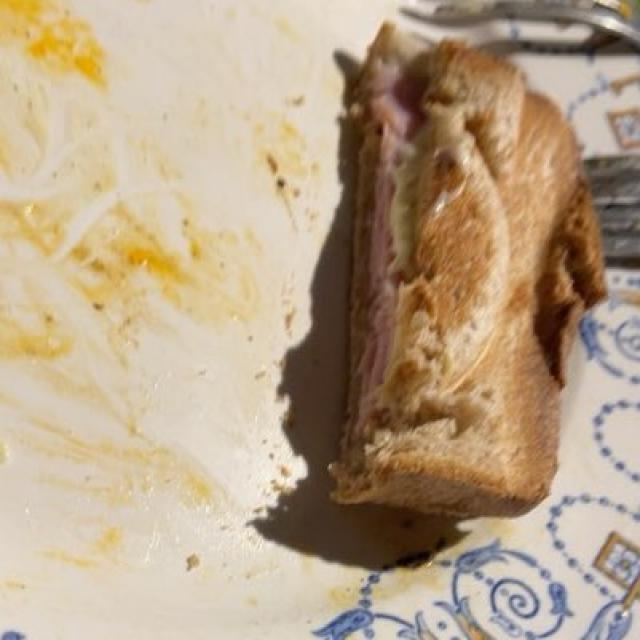croque-monsieur: (298, 42, 599, 523)
